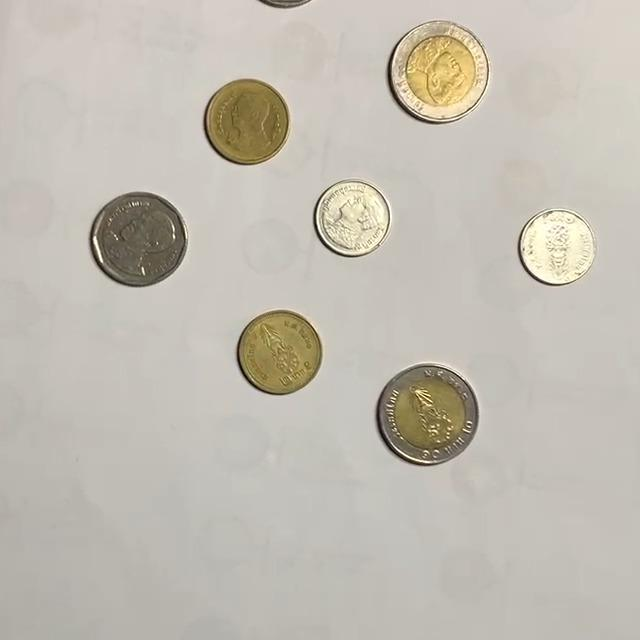1-baht: (519, 207, 599, 286), (314, 180, 393, 258)
10-baht: (377, 364, 481, 466), (388, 21, 491, 122)
2-baht: (204, 78, 291, 166), (238, 310, 323, 395)
5-baht: (91, 191, 190, 287)
